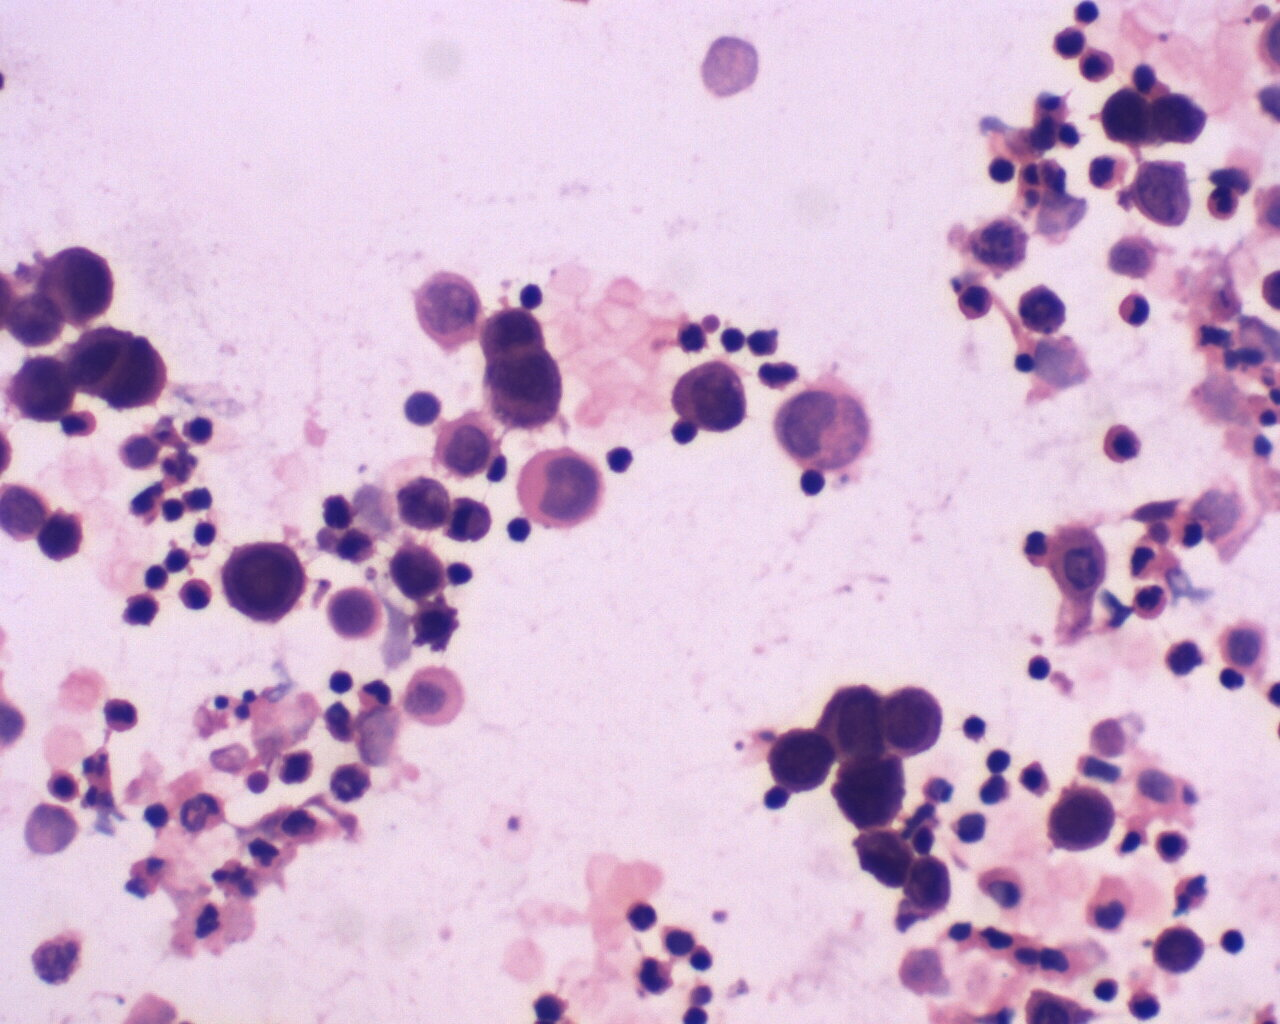ab: (71, 325, 170, 415), (214, 537, 309, 624), (481, 355, 575, 426), (664, 352, 744, 435), (828, 752, 911, 831), (1046, 779, 1120, 859), (44, 246, 116, 323), (881, 681, 945, 759), (11, 354, 78, 427), (765, 726, 839, 792), (389, 540, 452, 602), (1103, 85, 1155, 147), (36, 511, 90, 564), (1153, 922, 1205, 977), (399, 474, 449, 532)
lymph: (603, 442, 639, 480), (986, 149, 1021, 189), (321, 664, 358, 697), (501, 513, 533, 551), (516, 281, 552, 309), (800, 465, 828, 498), (1026, 653, 1056, 682)
meso: (397, 657, 472, 735)
neutro: (1203, 178, 1250, 225), (1132, 580, 1171, 622)
